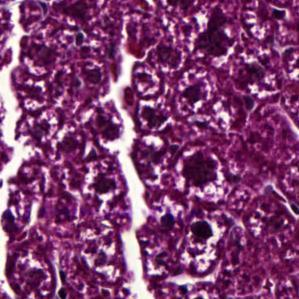inflammation: (189, 0, 240, 68), (174, 145, 227, 203), (175, 211, 221, 273), (136, 94, 170, 135)
